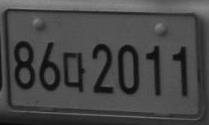0: (117, 44, 140, 95)
1: (143, 44, 167, 96), (170, 46, 193, 97)
2: (90, 42, 114, 94)
6: (38, 41, 61, 92)
8: (12, 39, 36, 91)
다: (62, 51, 86, 92)
